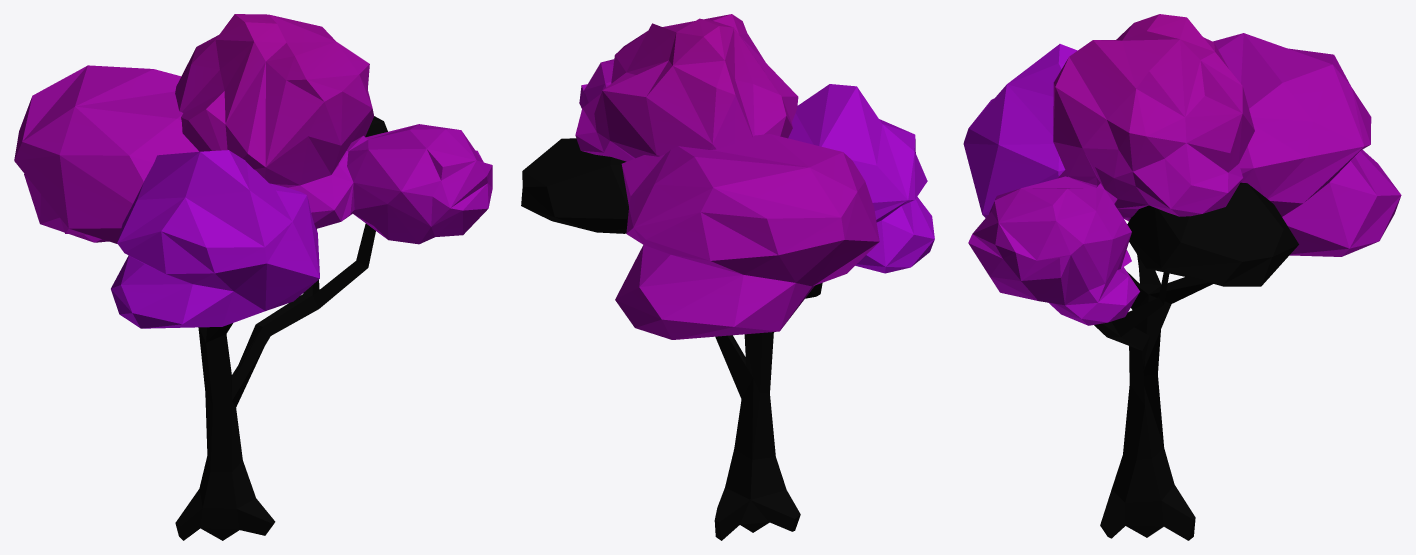
Rendered from SM_Env_Tree_01.glb.
3 views of the same model, side by side, from view 1: azimuth 30°, elevation 25°; view 2: azimuth 150°, elevation 25°; view 3: azimuth 270°, elevation 25° (orthographic). The views are drawn at different scales.
Visible parts, largest first — view 1: SM_Env_Tree_01; view 2: SM_Env_Tree_01; view 3: SM_Env_Tree_01.
Boxes of the visible parts, x1,y1,x2,y2 form: SM_Env_Tree_01: (14, 14, 492, 540); SM_Env_Tree_01: (521, 14, 934, 540); SM_Env_Tree_01: (963, 14, 1401, 540).
Size of the model in its own units: 7.09 by 9.41 by 6.93.
